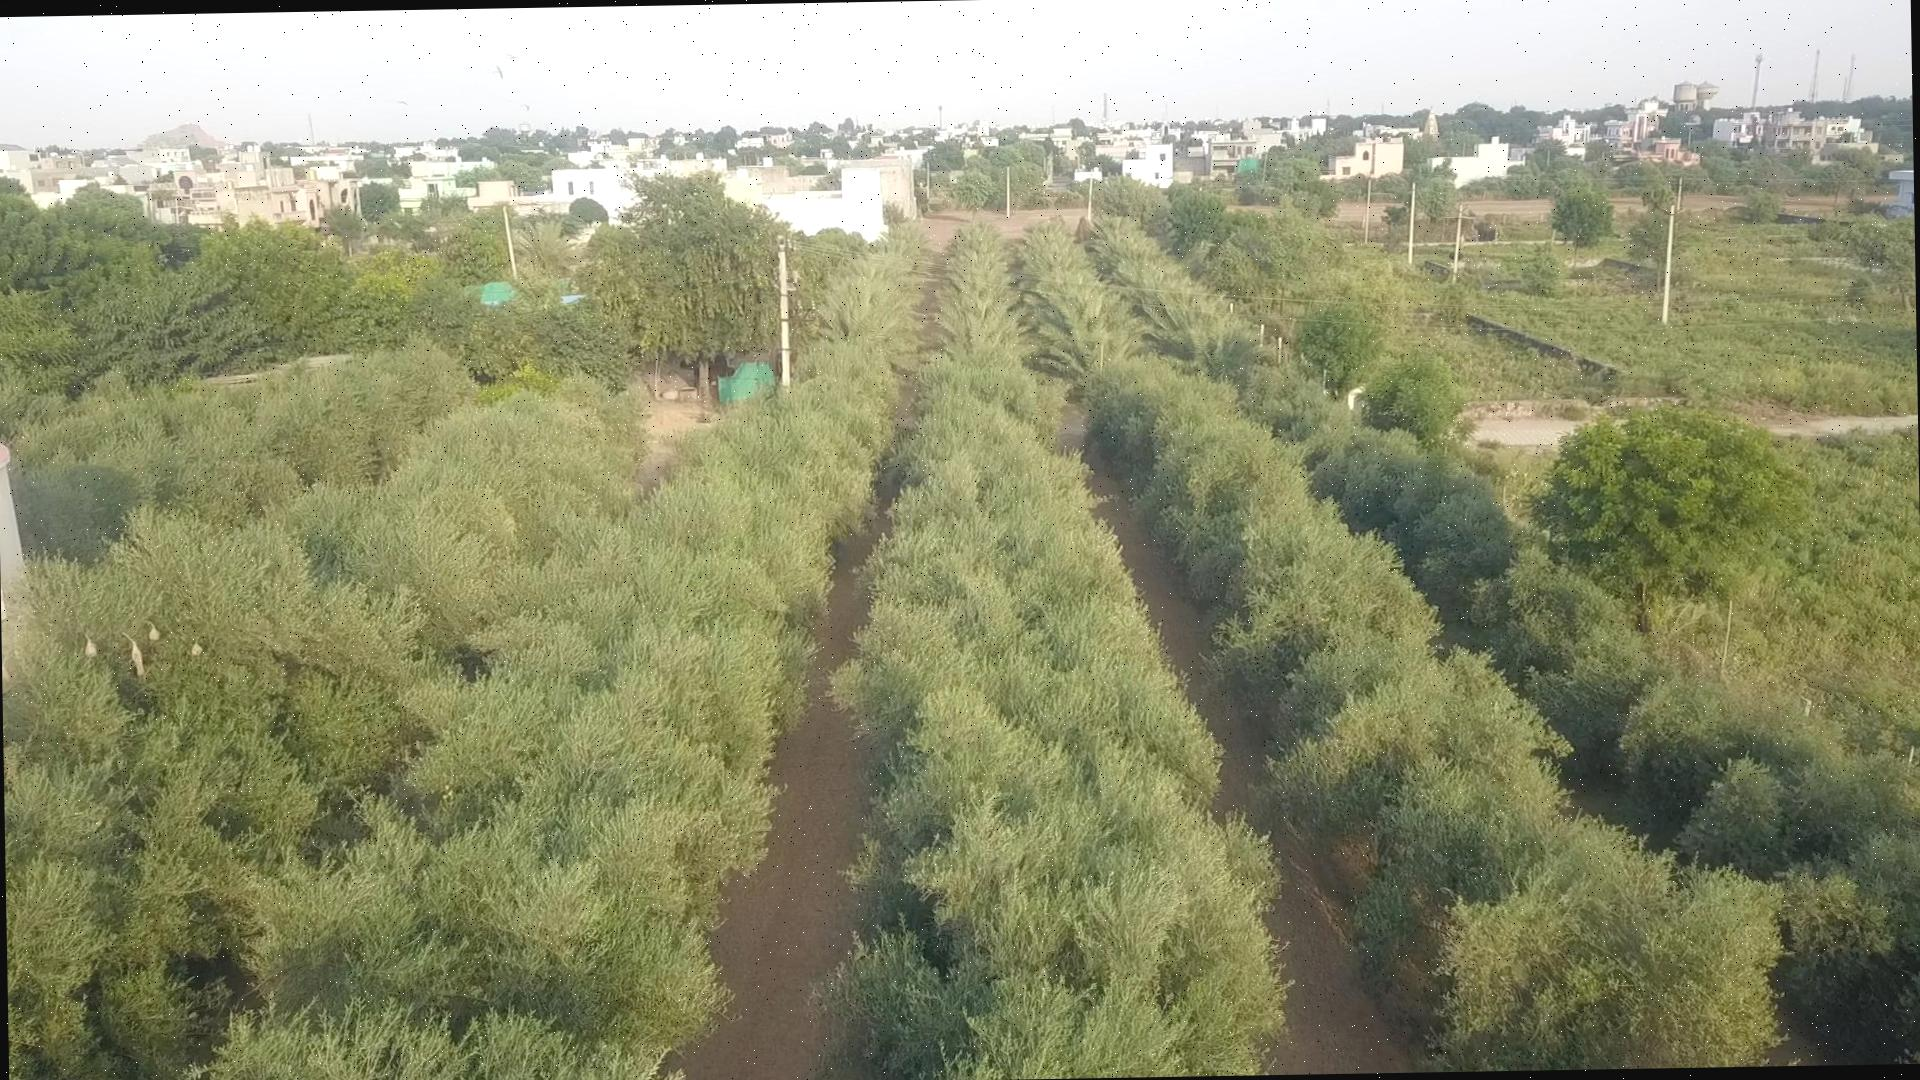canopy: (200, 349, 893, 1080), (1087, 360, 1770, 1067), (3, 394, 640, 1080), (828, 359, 1284, 1077), (1312, 427, 1920, 944)
road: (1084, 452, 1411, 1073), (679, 491, 895, 1080)
